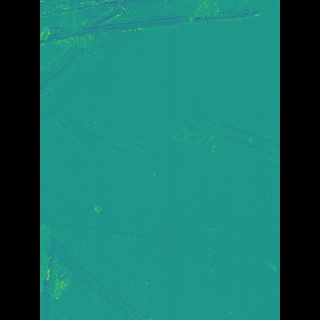Loch: (68, 0, 237, 130), (76, 98, 250, 165), (69, 227, 159, 320), (71, 218, 203, 249)
